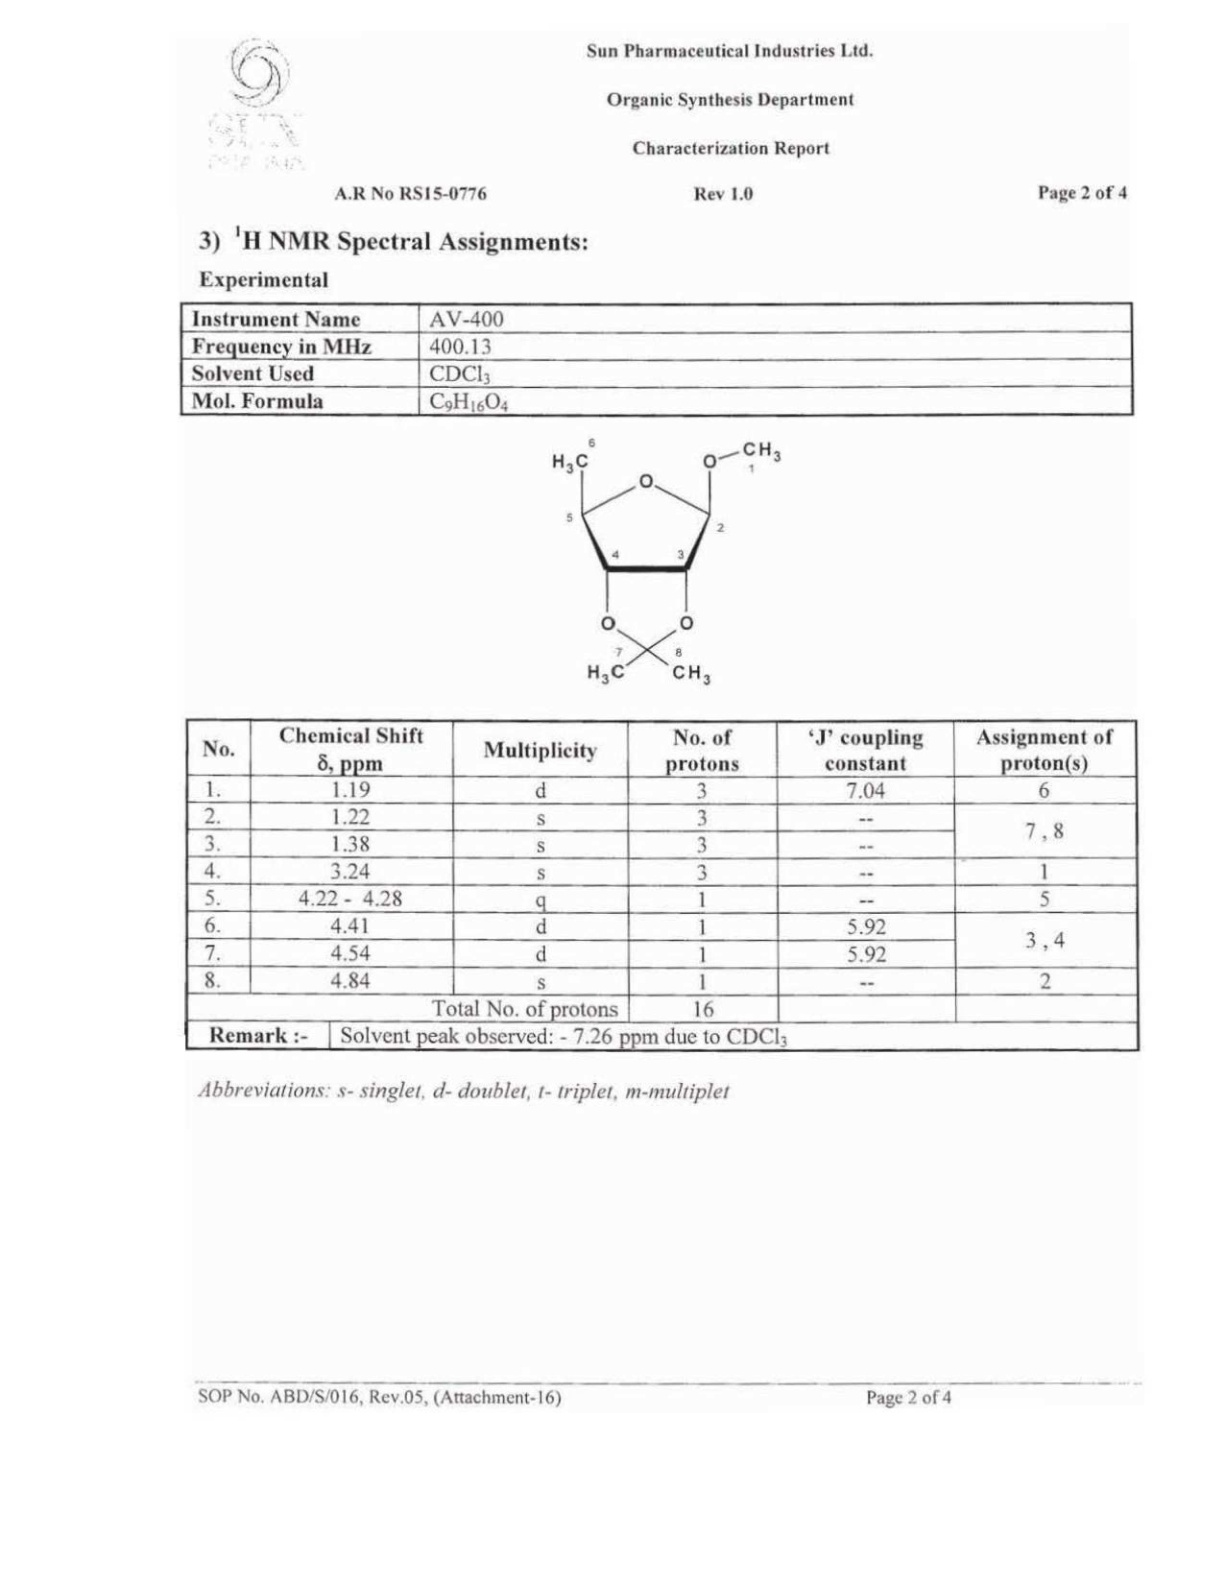full_lined: (179, 300, 1133, 417)
merged_cells: (184, 717, 1142, 1052)
